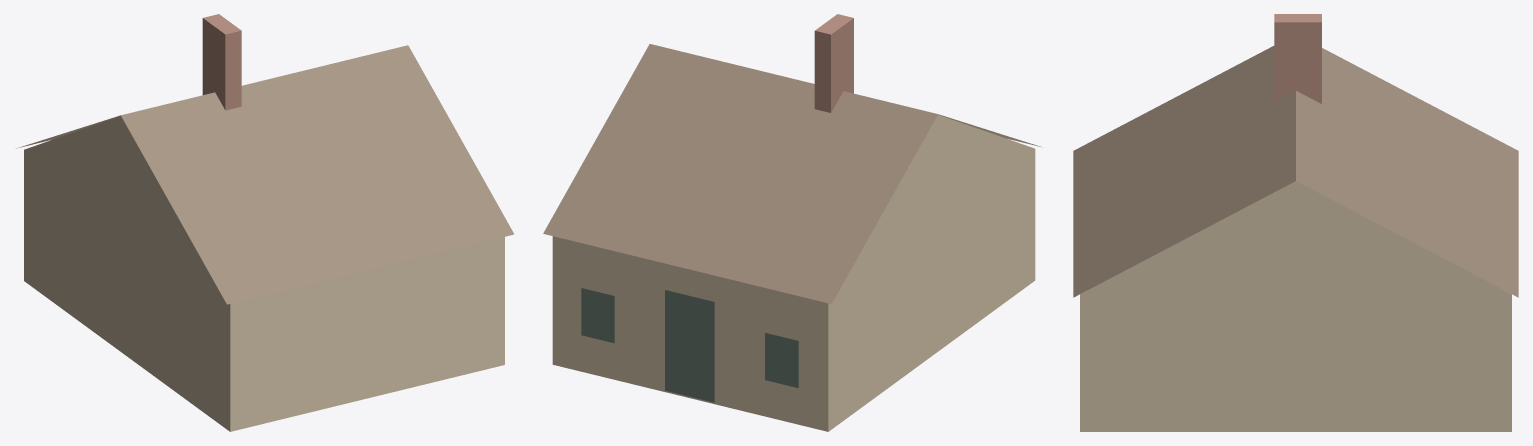
File: recon_1835_north_d4_056__recommended_1835.glb
3 views of the same model, side by side, from view 1: azimuth 30°, elevation 25°; view 2: azimuth 150°, elevation 25°; view 3: azimuth 270°, elevation 25° (orthographic). The views are drawn at different scales.
Parts seen in each view (by area): view 1: recon_1835_north_d4_056__recommended_1835; view 2: recon_1835_north_d4_056__recommended_1835; view 3: recon_1835_north_d4_056__recommended_1835.
Part boxes in pixels (x1,y1,x2,y2): recon_1835_north_d4_056__recommended_1835: (16, 14, 514, 431); recon_1835_north_d4_056__recommended_1835: (543, 14, 1040, 431); recon_1835_north_d4_056__recommended_1835: (1073, 14, 1518, 431).
Bounding box in the file's own units: 6.38 × 6.53 × 8.17.
